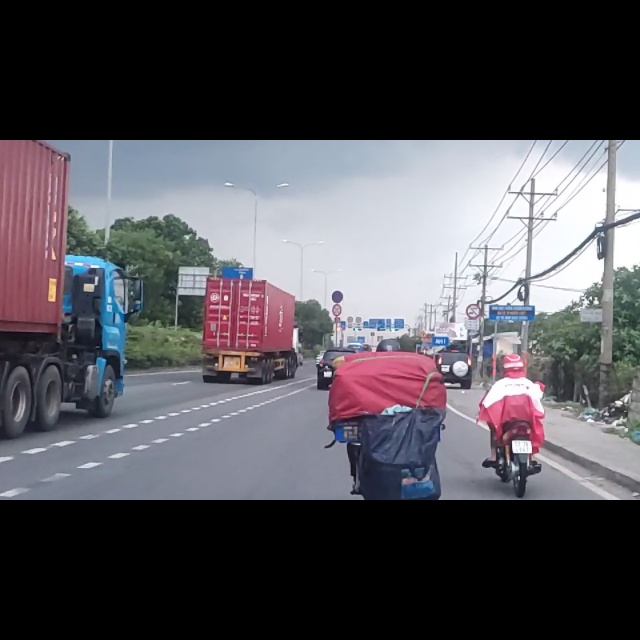bien_cam: (466, 290, 481, 320), (331, 267, 344, 289), (333, 292, 342, 314)
